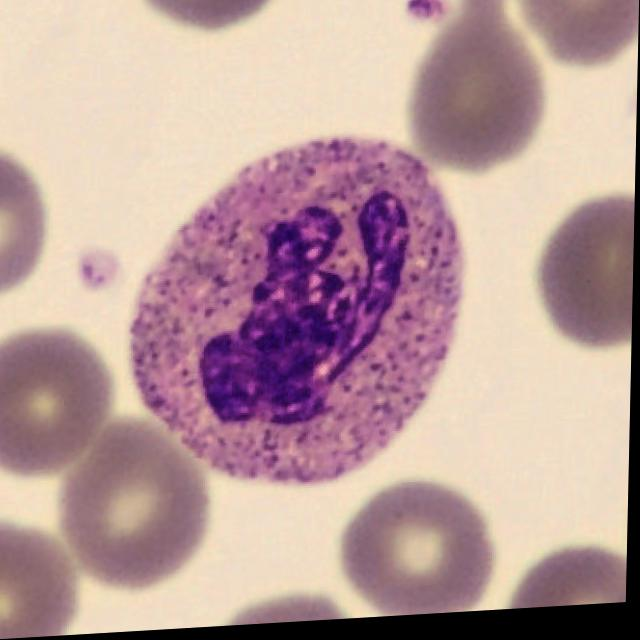Neutrofilo segmentado: (130, 142, 465, 489)
